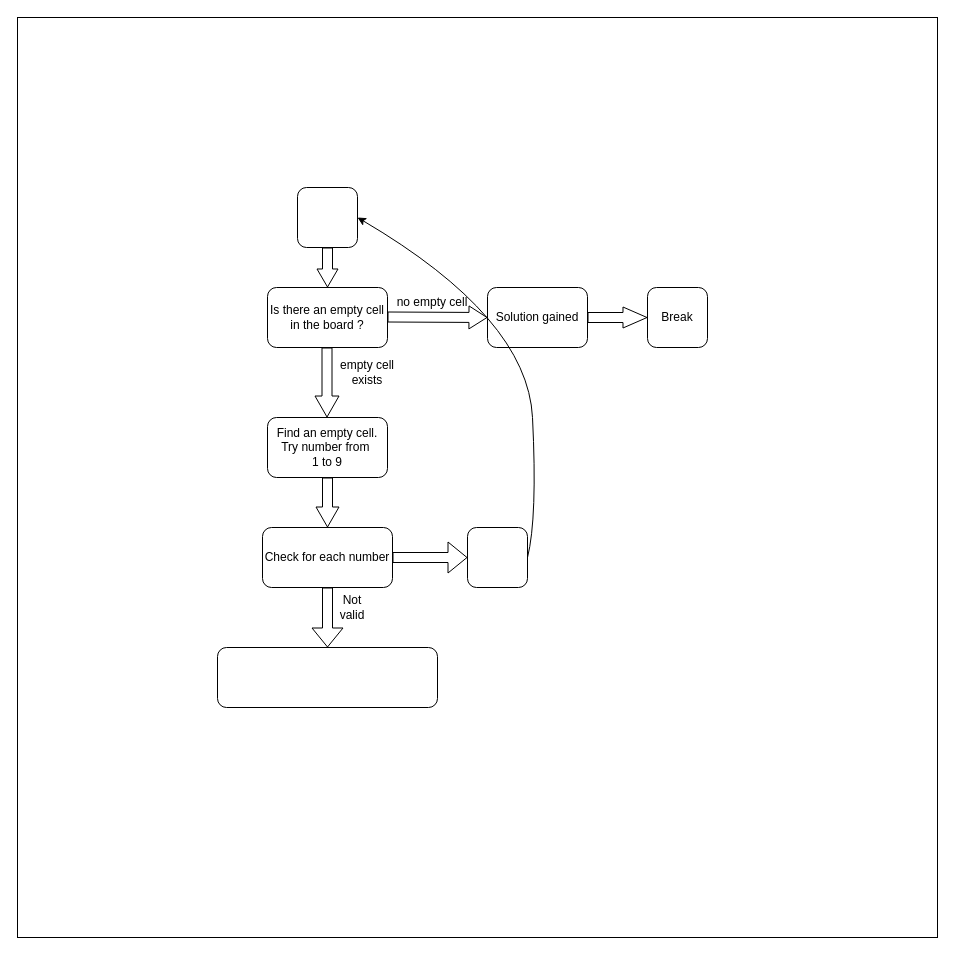
Some shapes in this 955 by 955 pixel diagram are drawn without their labels. Here are the shapes that lost their labels. From the top down, the box of each, then its label:
(296, 186, 358, 248): solve
(466, 526, 528, 588): Valid
(216, 646, 438, 708): Remove the number of the present cell. This is preparing for backtracking.
